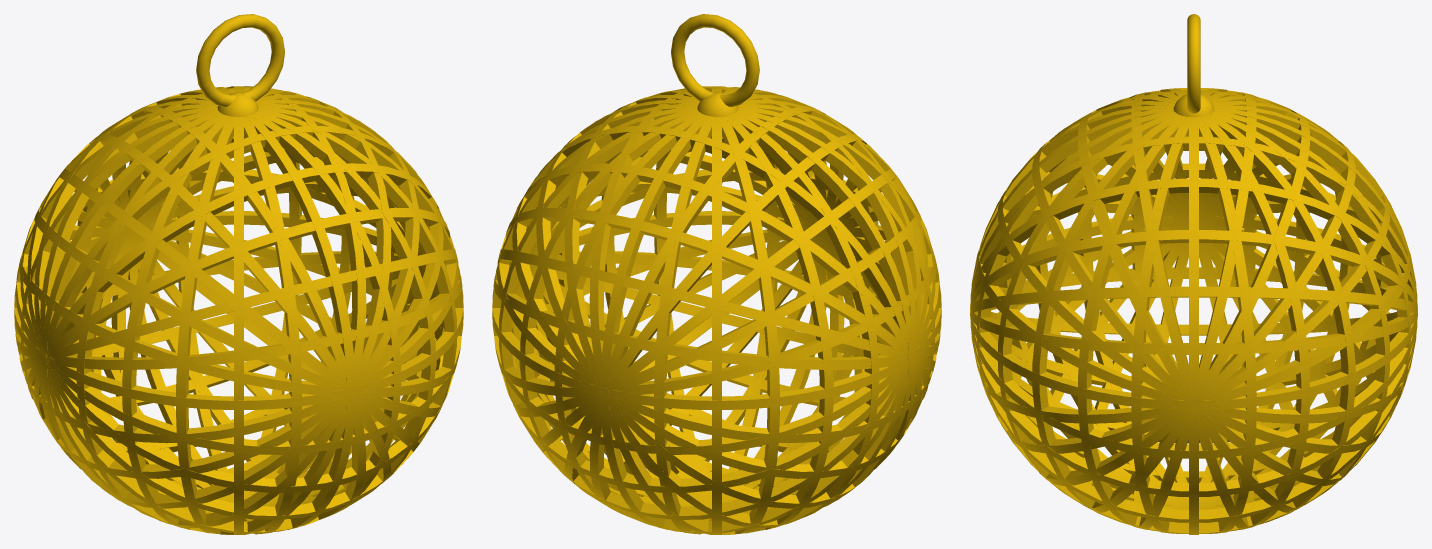
The model's file is Игрушка на елку5.fbx.
The picture shows the model from 3 angles, left to right: view 1: azimuth 30°, elevation 25°; view 2: azimuth 150°, elevation 25°; view 3: azimuth 270°, elevation 25°; orthographic projection.
Visible parts, largest first — view 1: pTorus17, pTorus16, pTorus15, pSphere5; view 2: pTorus17, pTorus16, pTorus15, pSphere5; view 3: pTorus16, pTorus15, pTorus17, pSphere5.
Boxes of the visible parts, x1=… form: pTorus17: x1=14, y1=86, x2=463, y2=534; pTorus16: x1=14, y1=87, x2=463, y2=533; pTorus15: x1=14, y1=86, x2=463, y2=534; pSphere5: x1=196, y1=14, x2=284, y2=116; pTorus17: x1=492, y1=86, x2=941, y2=534; pTorus16: x1=492, y1=87, x2=941, y2=533; pTorus15: x1=492, y1=86, x2=941, y2=534; pSphere5: x1=671, y1=14, x2=759, y2=116; pTorus16: x1=970, y1=92, x2=1417, y2=534; pTorus15: x1=970, y1=88, x2=1417, y2=534; pTorus17: x1=970, y1=88, x2=1417, y2=533; pSphere5: x1=1173, y1=14, x2=1214, y2=117.
Bounding box in the file's own units: 37.39 × 45.75 × 37.39.
